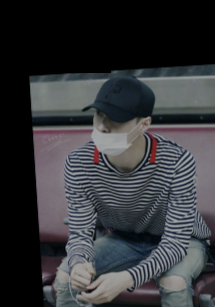mask_weared_incorrect: (93, 108, 137, 155)
